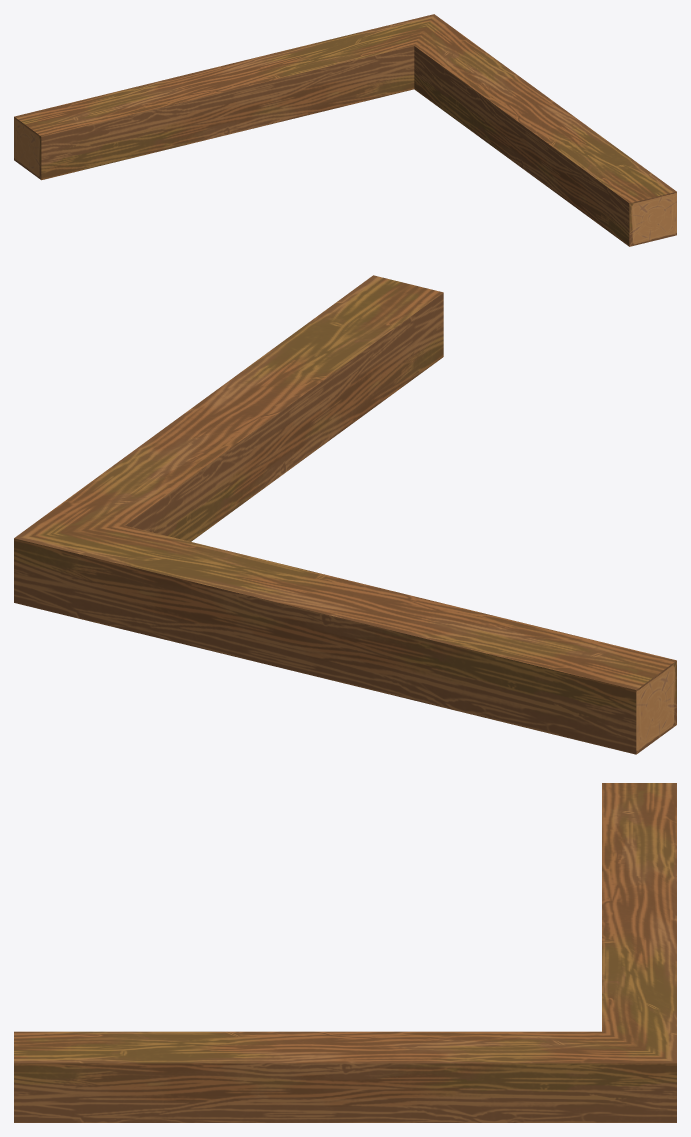
File: hole_cover_90_angle.gltf
3 renders of one model, top to bottom at view 1: azimuth 30°, elevation 25°; view 2: azimuth 150°, elevation 25°; view 3: azimuth 270°, elevation 25°, orthographic. The views are drawn at different scales.
Parts seen in each view (by area): view 1: HoleCover_90Angle; view 2: HoleCover_90Angle; view 3: HoleCover_90Angle.
Part boxes in pixels (x1=…): HoleCover_90Angle: x1=14, y1=14, x2=676, y2=246; HoleCover_90Angle: x1=14, y1=275, x2=676, y2=754; HoleCover_90Angle: x1=14, y1=783, x2=676, y2=1122.
Size of the model in its own units: 2.12 by 0.2102 by 2.12.
Materials: 1 (1 with a texture image).
